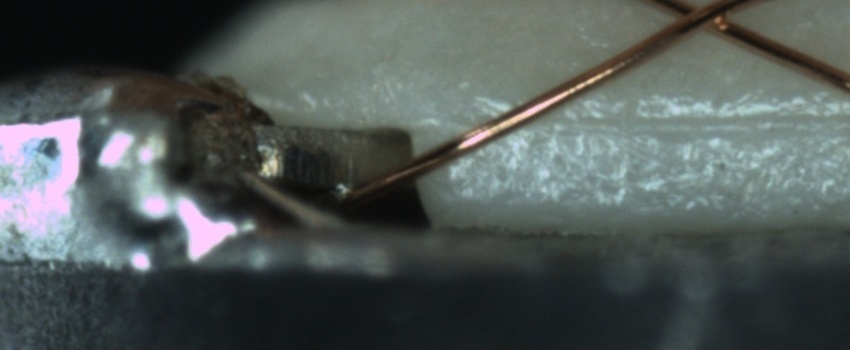CL: (660, 0, 748, 40)
DL: (478, 92, 850, 156)
